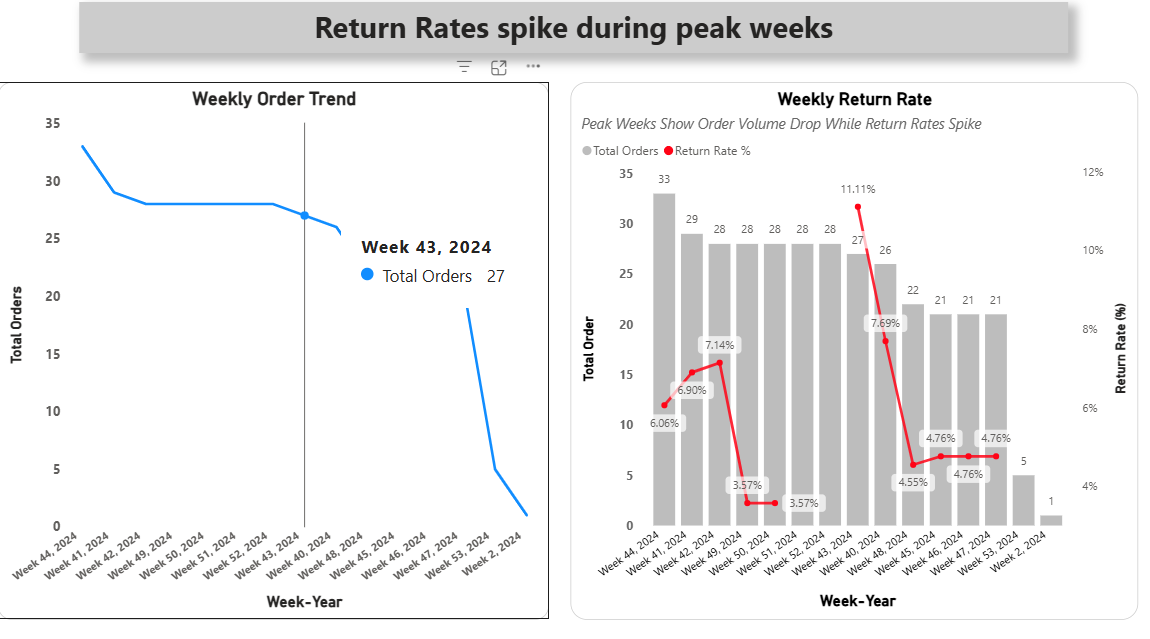

The dashboard page shown, as its layout file describes it:
{"tool":"powerbi","page":{"name":"Trends","canvas":[1280,720],"ordinal":0},"visuals":[{"type":"lineChart","title":" Weekly Order Trend","fields":{"Y":["urbanthreads_q4.Total Orders"],"Category":["DateTable.Week-Year"]},"box":[11,98.8,605.1,590.1],"z":0},{"type":"lineClusteredColumnComboChart","title":"Weekly Return Rate","fields":{"Category":["DateTable.Week-Year"],"Y":["urbanthreads_q4.Total Orders"],"Y2":["urbanthreads_q4.Return Rate %"]},"box":[639.5,98.8,623,590.1],"z":1000},{"type":"textbox","box":[100.2,11,1085.4,56.3],"z":2000}]}

Visuals, with their boxes in screenshot pixels (x1, y1, x2, y2), scaled from the page's 1280x720 canvas onto the 1150x639 screenshot:
" Weekly Order Trend" lineChart: (left=10, top=88, right=554, bottom=611)
"Weekly Return Rate" lineClusteredColumnComboChart: (left=575, top=88, right=1134, bottom=611)
textbox: (left=90, top=10, right=1065, bottom=60)
